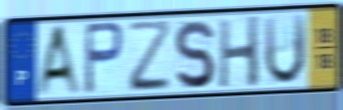A: (33, 22, 85, 98)
H: (216, 13, 262, 90)
P: (82, 19, 126, 97)
S: (172, 17, 217, 91)
U: (262, 11, 308, 88)
Z: (126, 17, 173, 95)
